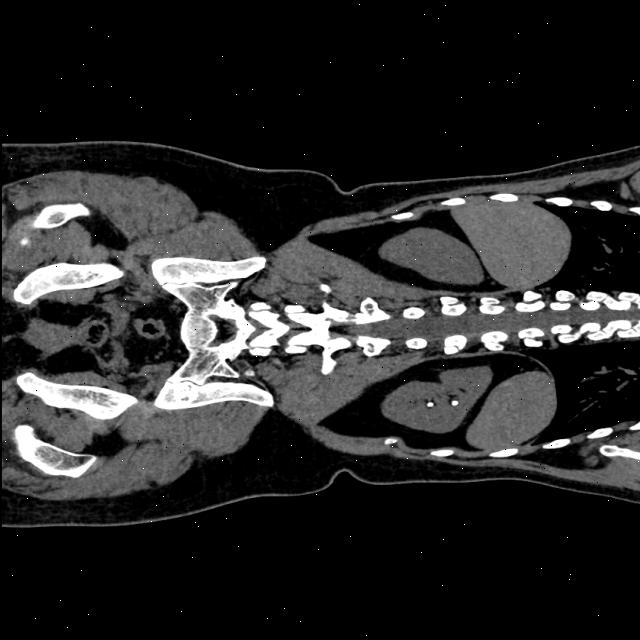kidneystone: (450, 400, 458, 406), (426, 401, 433, 406)
